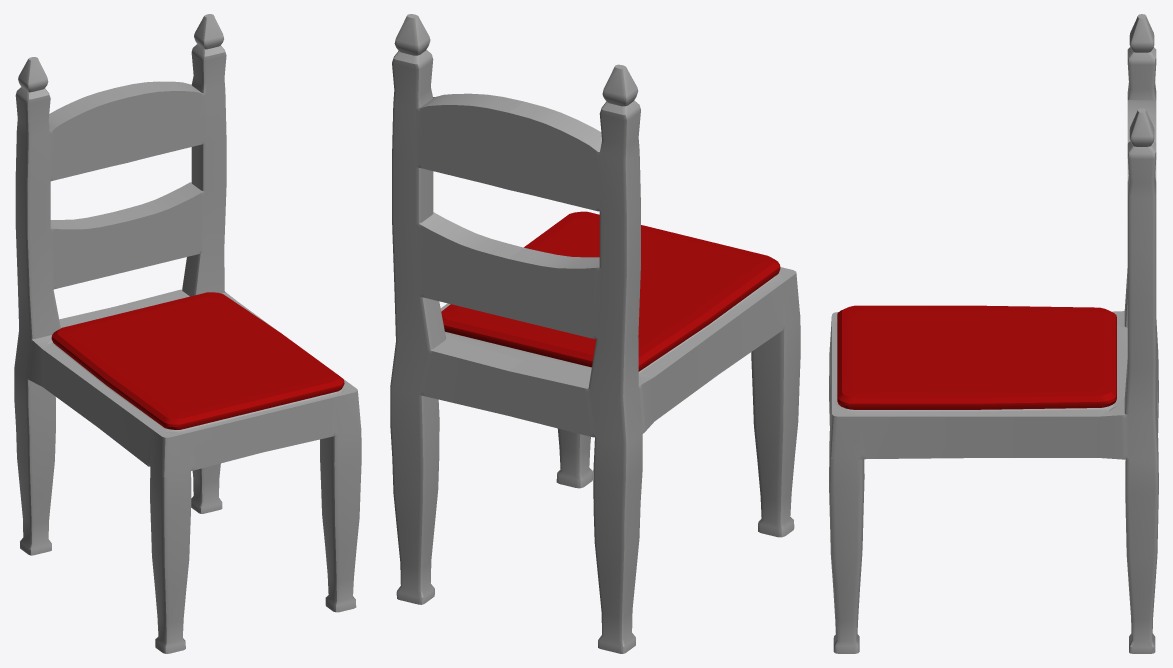
Rendered from PROP_CadeirasSala_Fix.fbx.
The picture shows the model from 3 angles, left to right: view 1: azimuth 30°, elevation 25°; view 2: azimuth 150°, elevation 25°; view 3: azimuth 270°, elevation 25°; orthographic projection. The views are drawn at different scales.
Parts seen in each view (by area): view 1: Estrutura, Almofadinha; view 2: Estrutura, Almofadinha; view 3: Estrutura, Almofadinha.
Part boxes in pixels (left/top/right/bottom): Estrutura: left=14, top=14, right=361, bottom=653; Almofadinha: left=51, top=292, right=344, bottom=429; Estrutura: left=390, top=14, right=800, bottom=653; Almofadinha: left=441, top=211, right=780, bottom=371; Estrutura: left=829, top=14, right=1158, bottom=653; Almofadinha: left=837, top=305, right=1116, bottom=409.
Size of the model in its own units: 4.41 by 10.25 by 5.69.
